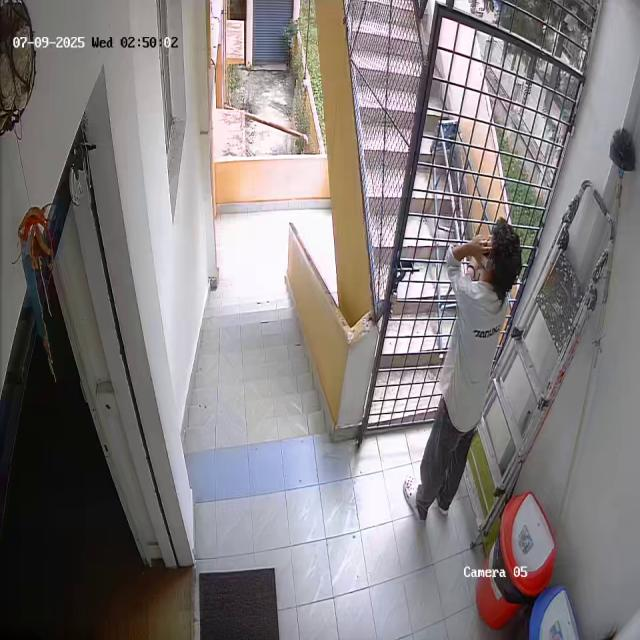person: (399, 220, 527, 536)
